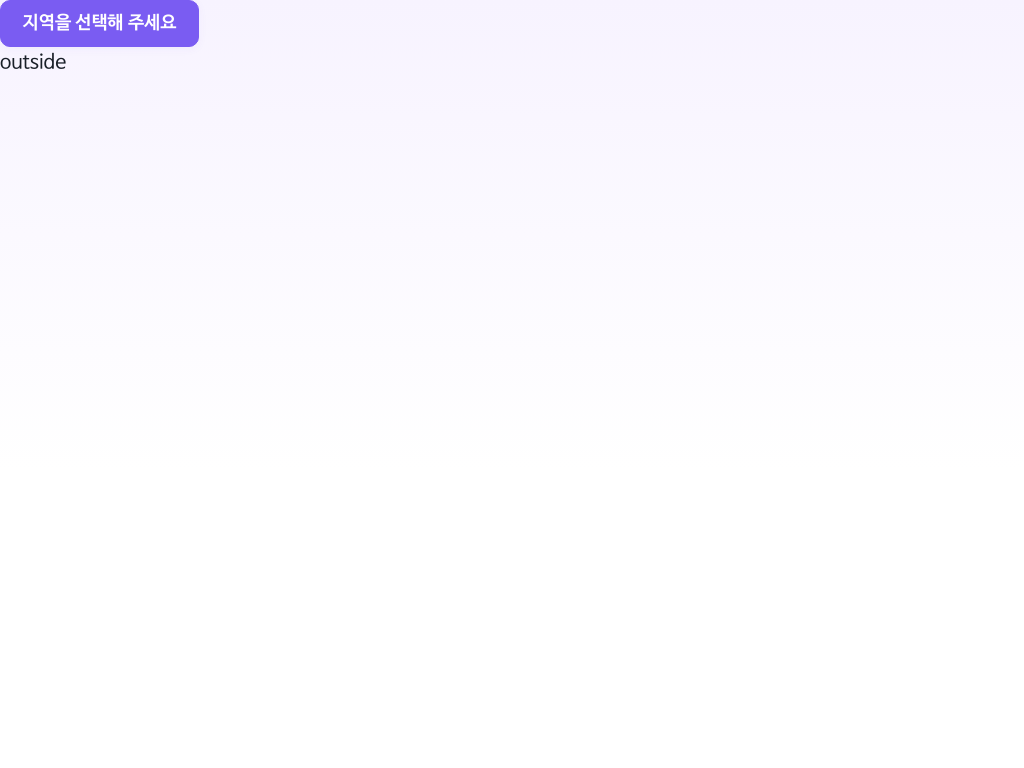
it: the box (R1-4; one 거주 only since user 2026-10-20) › before login a check is saved in this browser and the save hint shows under 거주 (R9)
The image size is (1024, 768).
Later steps or results of the test are not shown.
Click the button "지역을 선택해 주세요".
click(100, 23)  # box top-left (0, 0), bottom-right (199, 47)
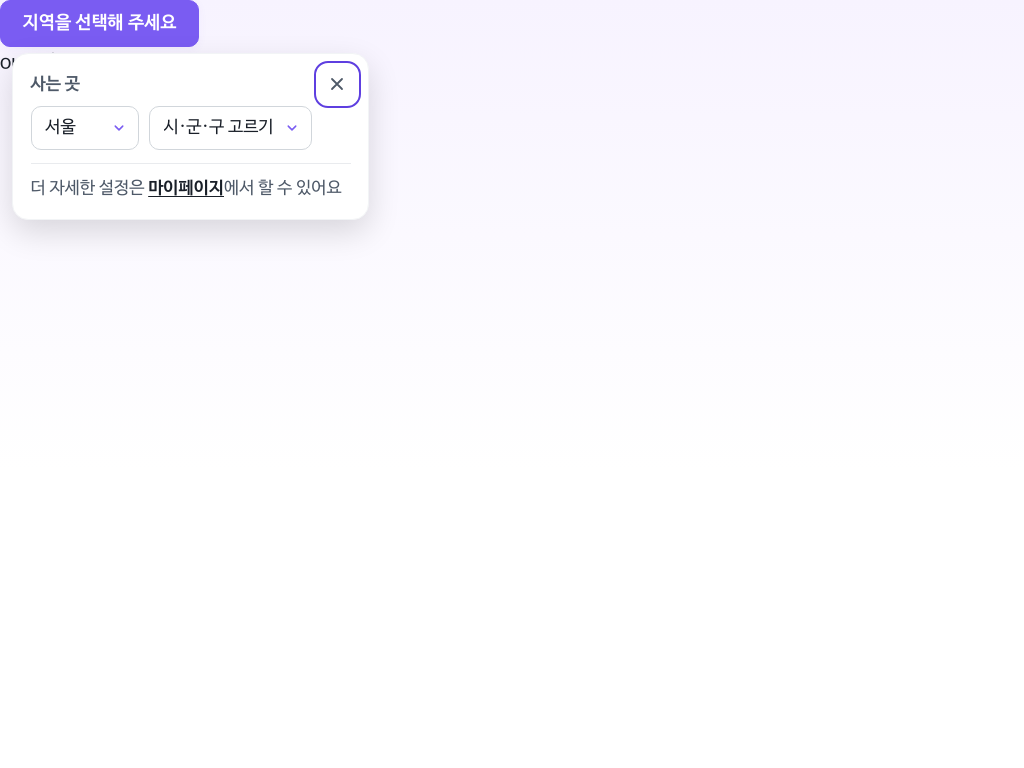
Select "서울" in the dropdown named "사는 곳 시도" at {"x": 85, "y": 128}, box top-left (31, 106), bottom-right (139, 150)
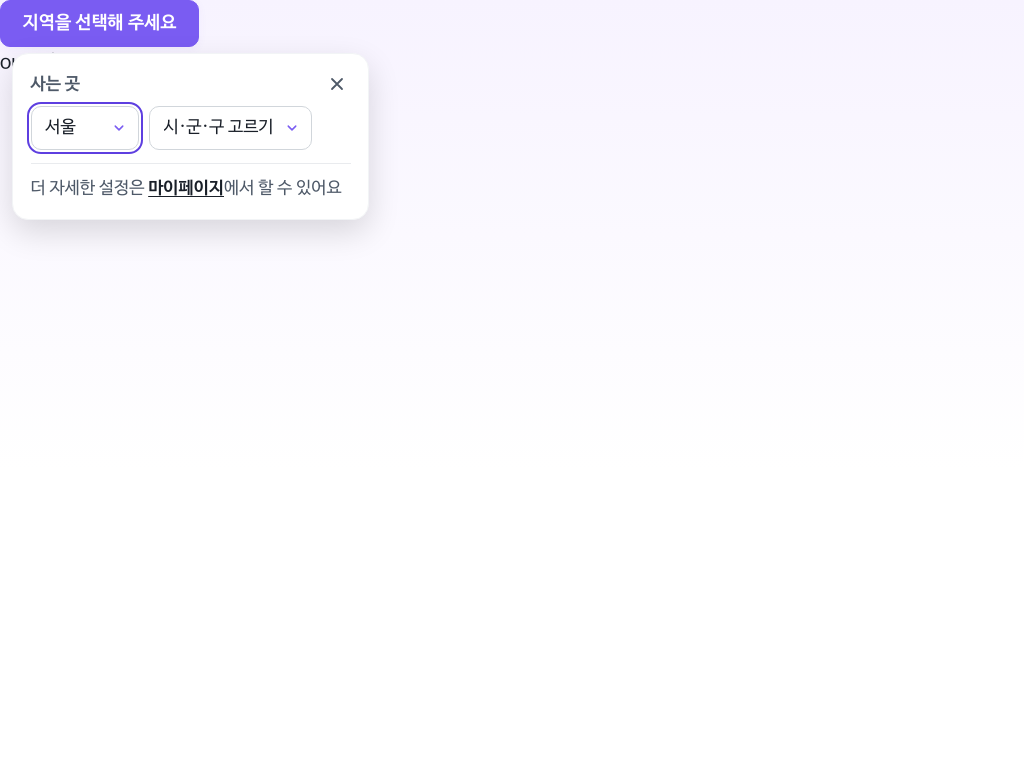
Select "마포구" in the dropdown named "사는 곳 시군구" at {"x": 230, "y": 128}, box top-left (149, 106), bottom-right (312, 150)
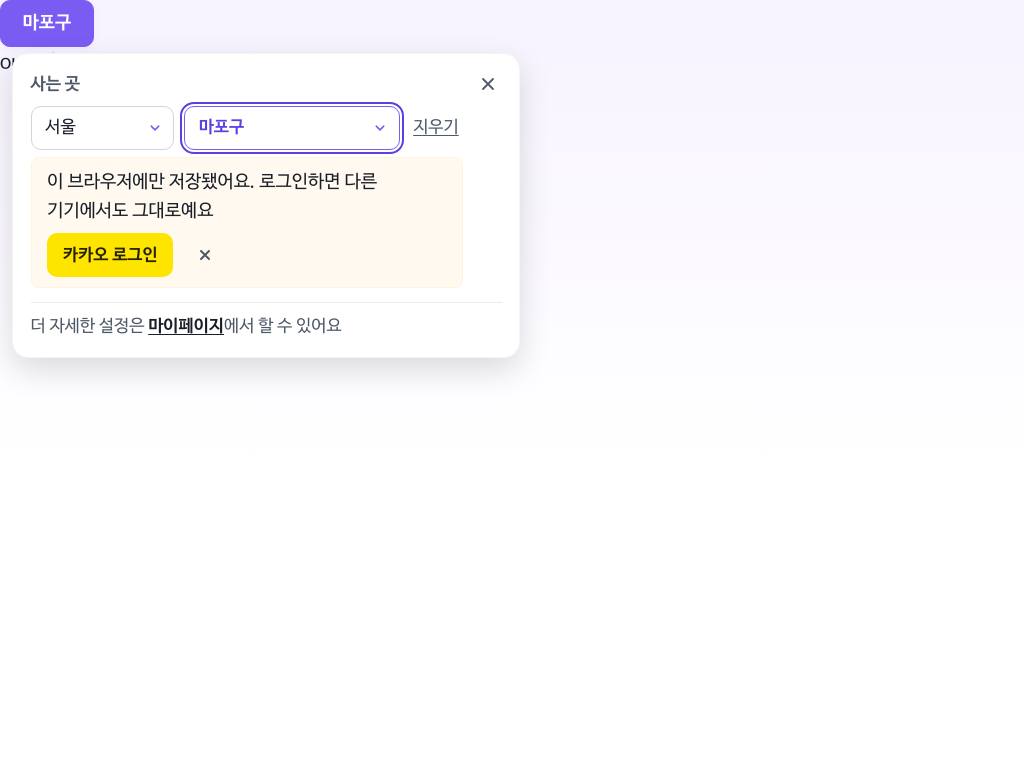
Result: the text "이 브라우저에만 저장됐어요. 로그인하면 다른 기기에서도 그대로예요" is shown at top-left (47, 172), bottom-right (377, 221)
